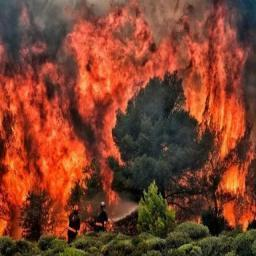Large fire: (3, 7, 255, 242)
